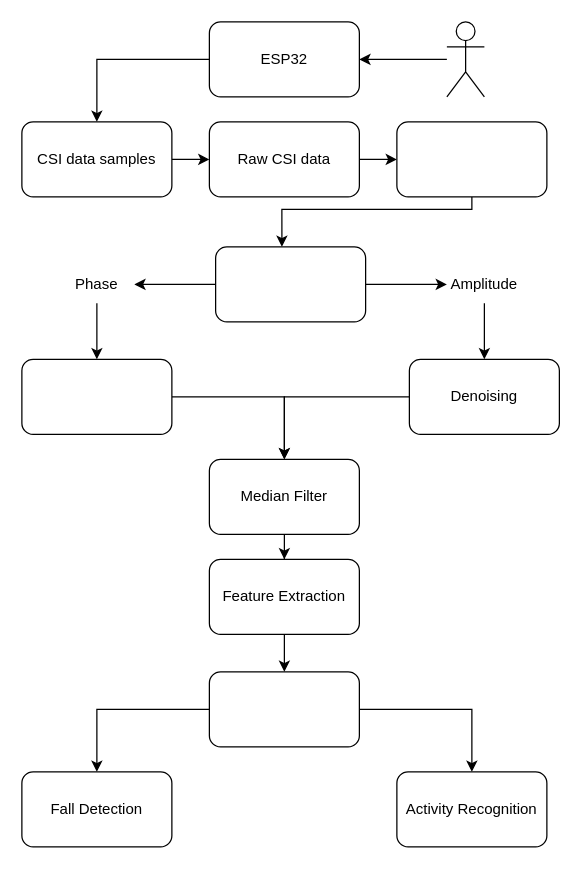
Image size: 581x869. Some labels were removed from this diagram. The centre of each missing label's shape, as x and y in pixels:
"Feature Selection" belongs at [283,709].
"Filtering" belongs at [471,159].
"Phase Calibration" belongs at [96,396].
"Resampling" belongs at [290,284].
